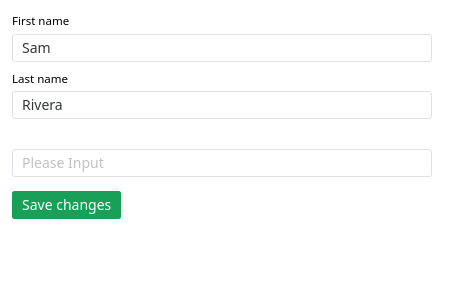
Test: PersonForm › edit mode › company field (018-companies US2) › searches existing companies by substring with no create option, and lets the user select, switch, and clear
The image size is (449, 300).
Step 1. Type "acm" into the field labelled "Company" → (222, 163), box [22,149,422,177]
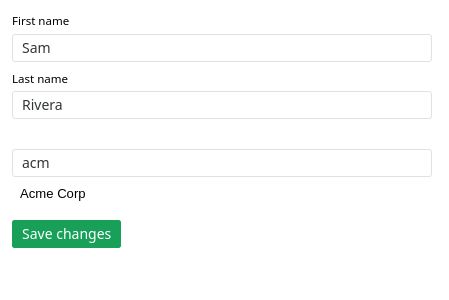
Step 2. Click the button "Acme Corp" → (53, 194), box [12,182,432,206]
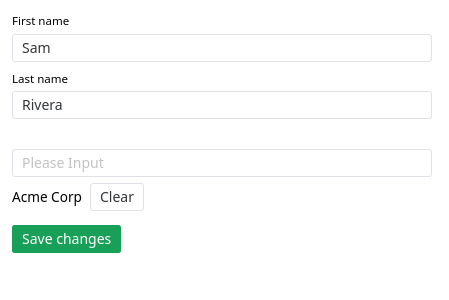
Expected: the text "Acme Corp" is shown, [12,187,82,206]
Step 3. Type "glo" into the field labelled "Company" → (222, 163), box [22,149,422,177]
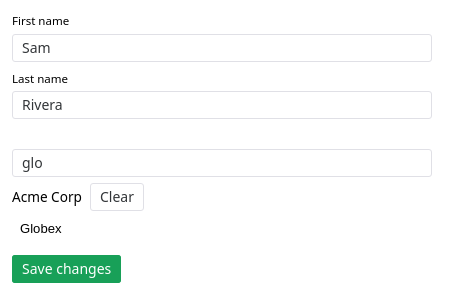
Step 4. Click the button "Globex" → (41, 228), box [12,216,432,241]
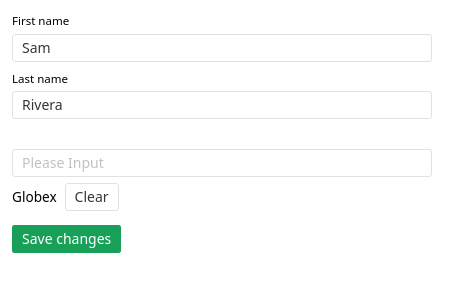
Expected: the text "Globex" is shown, [12,187,57,206]
Expected: the text "Acme Corp" is gone
Step 5. Click the button "Clear" → (92, 197), box [65,183,119,211]
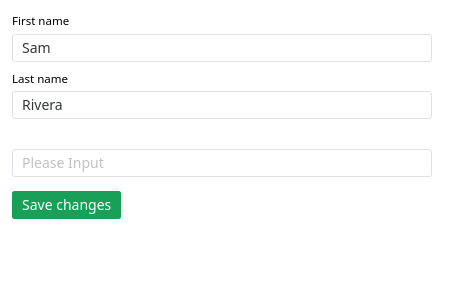
Expected: the text "Globex" is gone
